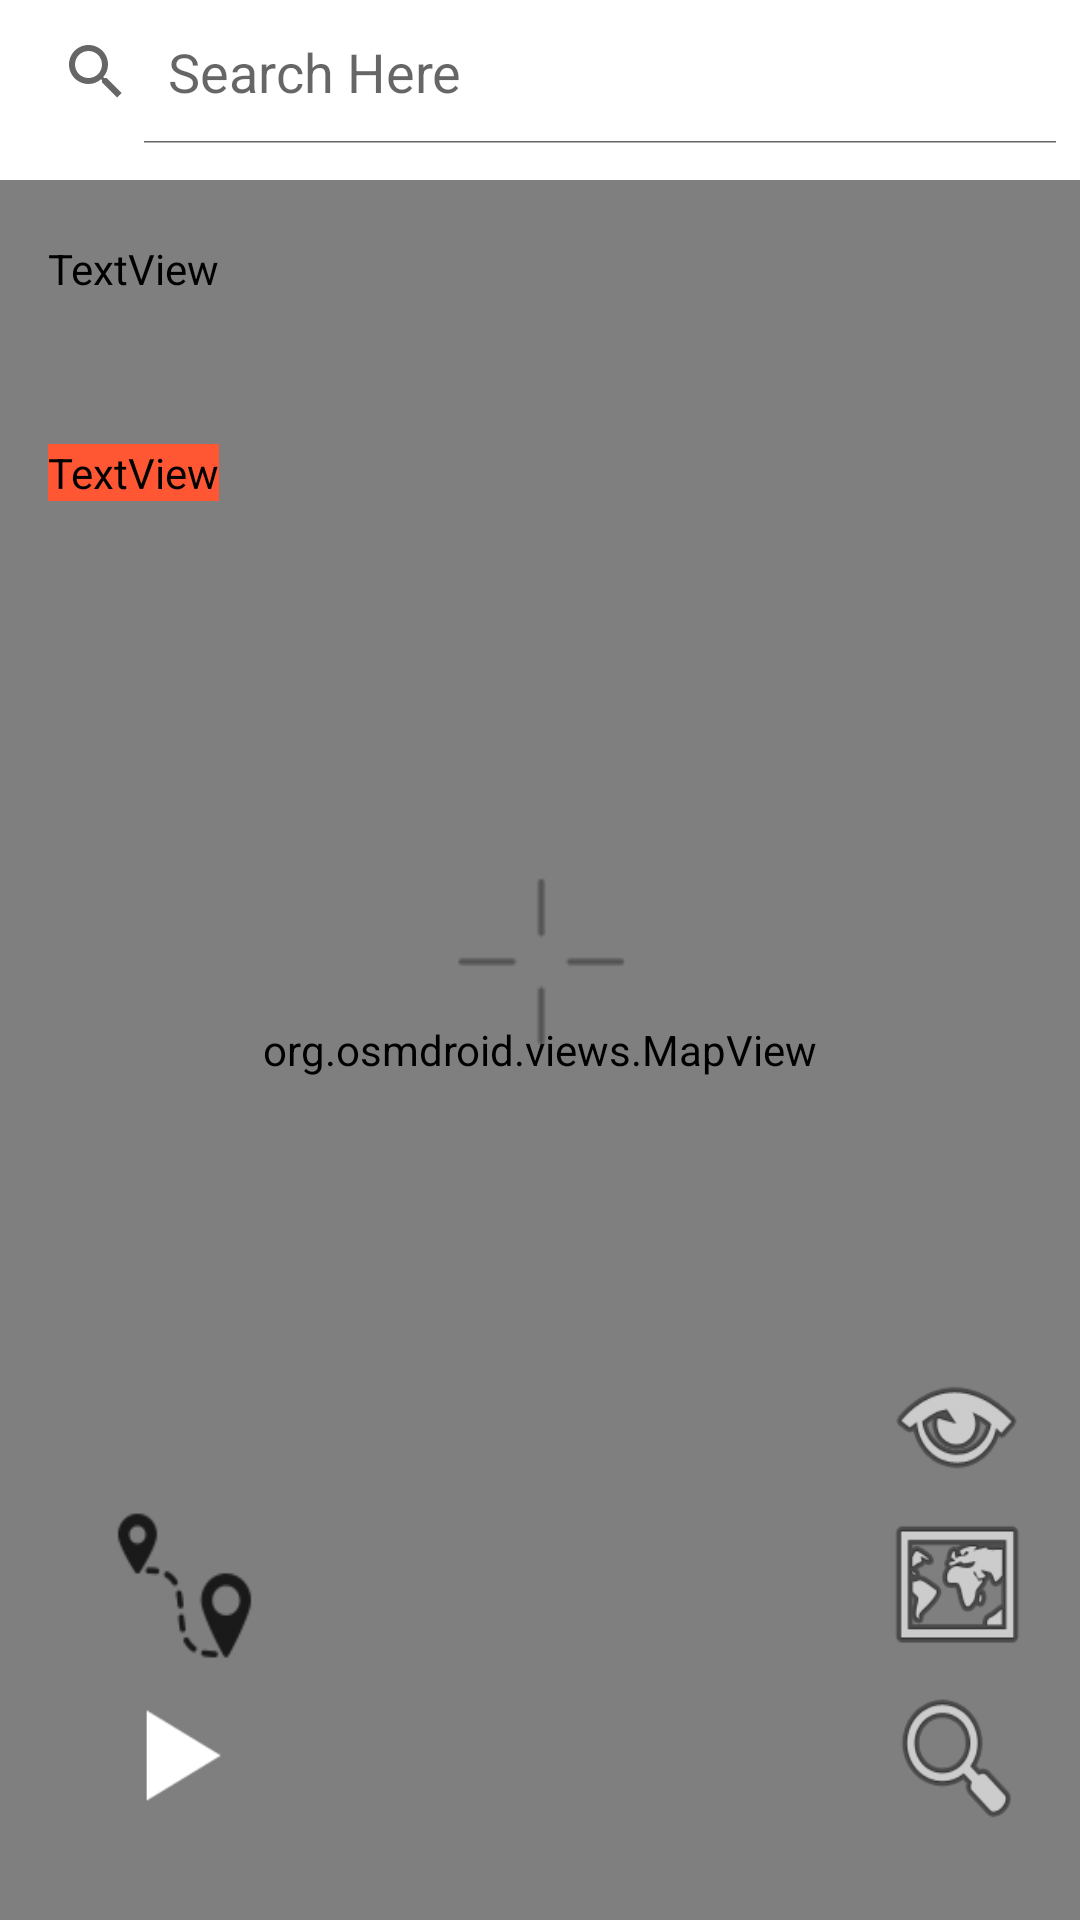

Named icons in this screenshot (1080*1920) and their bounding boxes, (x1, y1, x2, y2):
mapmode: (896, 1526, 1018, 1643)
play: (146, 1710, 220, 1801)
search: (903, 1700, 1010, 1817)
start rout: (118, 1513, 251, 1658)
target: (446, 879, 629, 1052)
